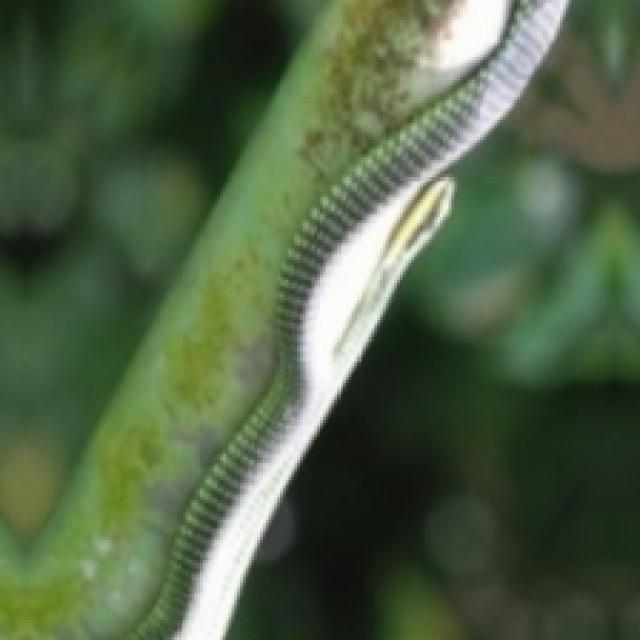paradise tree snake: (0, 0, 563, 637), (229, 3, 637, 637), (0, 0, 317, 551)
